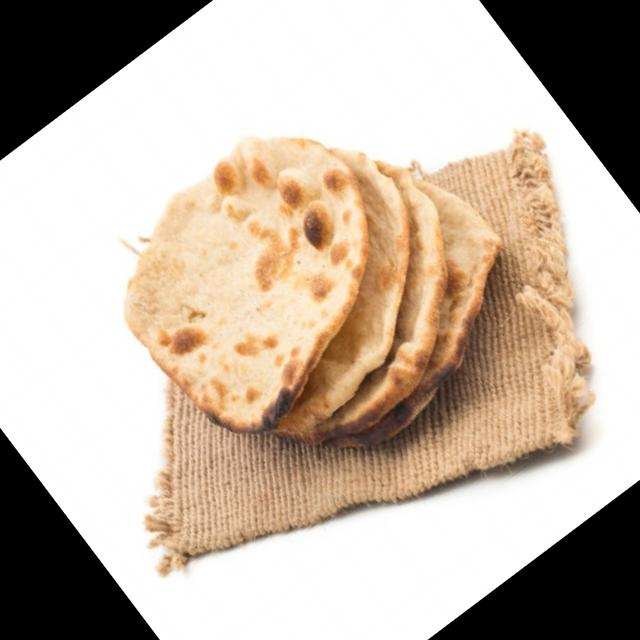roti: (117, 129, 507, 449)
